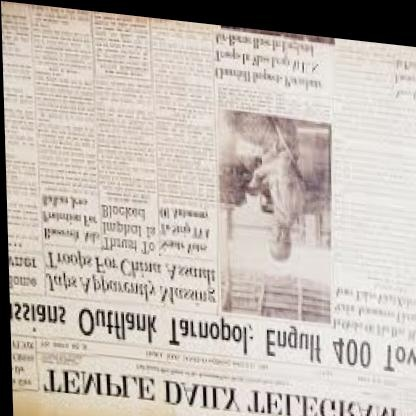trash: (2, 3, 415, 415)
